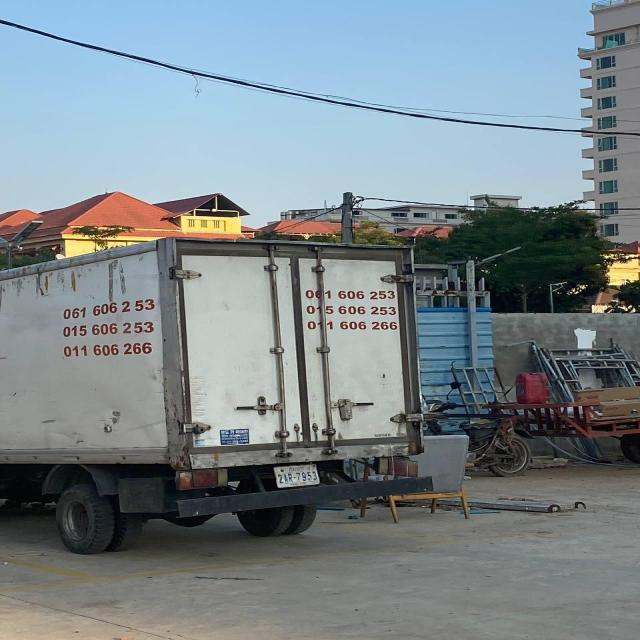Phnom_Penh: (288, 465, 306, 473)
